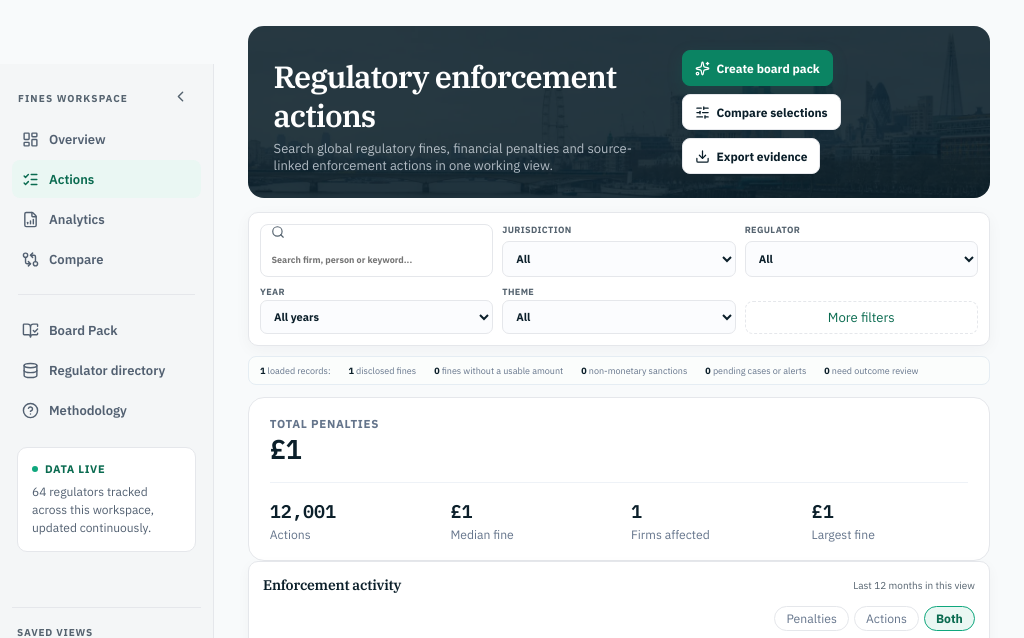
Scenario: Fines search › refuses exports above the safe bound before fetching any records
This screenshot has width=1024, height=638.
Click the button "Export evidence": (752, 156) [682,138,820,174]
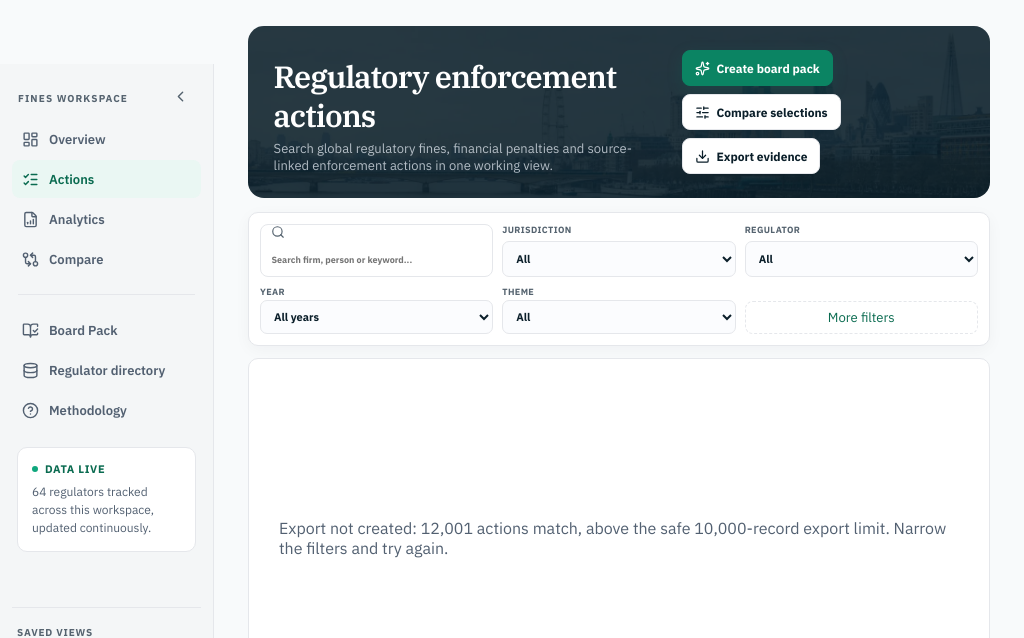
Now the message shows "above the safe 10,000-record export limit", box [279,518,946,558]
